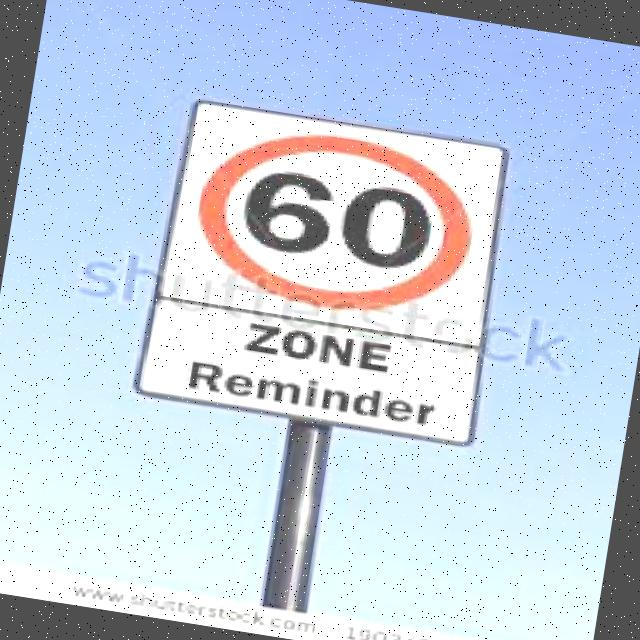Ograniczenie predkosci do 60: (198, 121, 470, 321)
